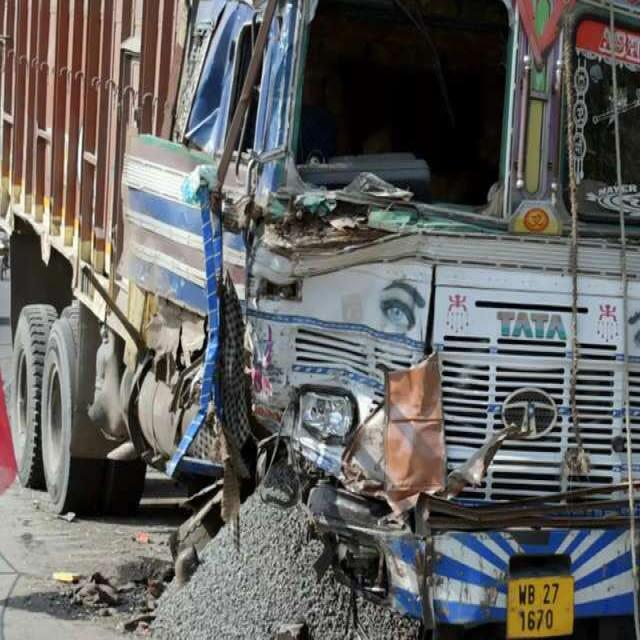accident: (0, 0, 640, 629)
